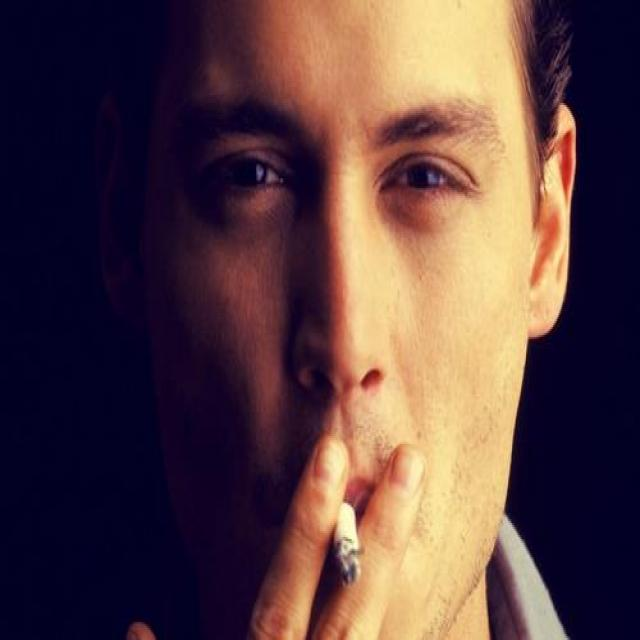smoke: (329, 500, 364, 586)
